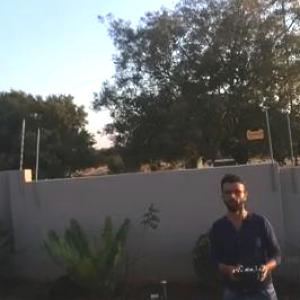follow: (204, 169, 287, 299)
